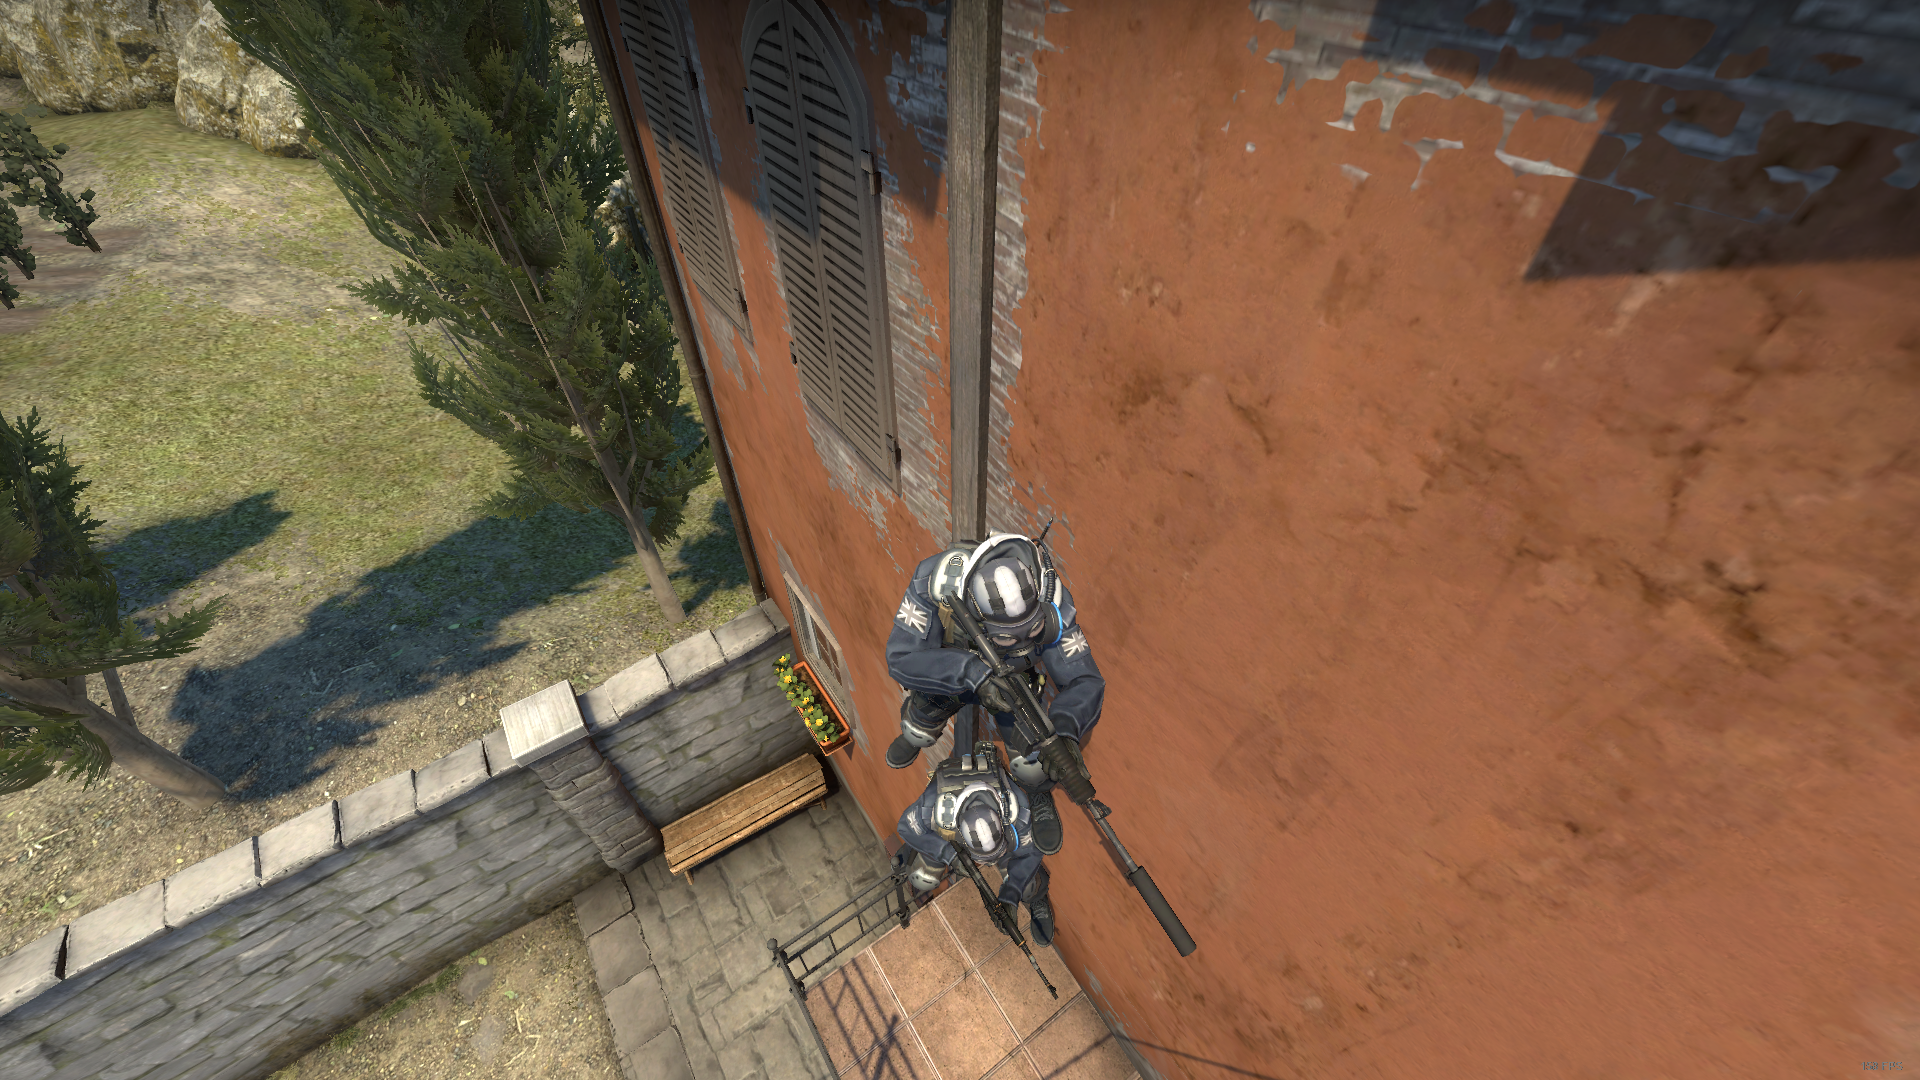ct: (878, 533, 1095, 845), (872, 744, 1084, 978)
